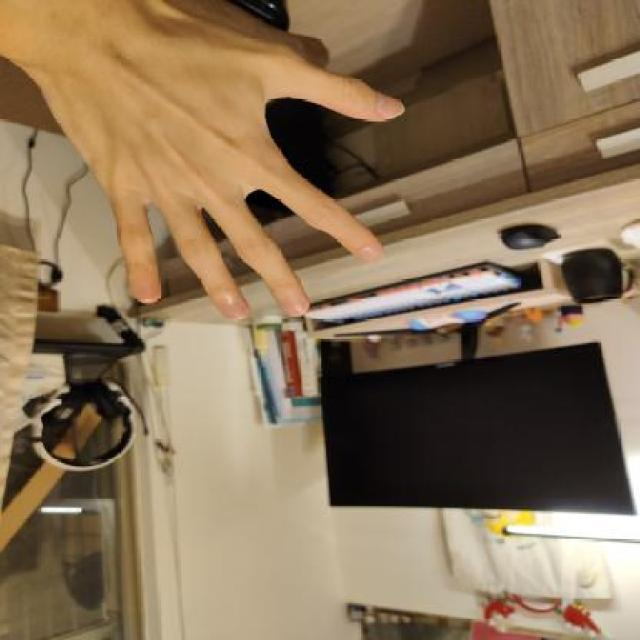bare_hand: (26, 0, 409, 329)
